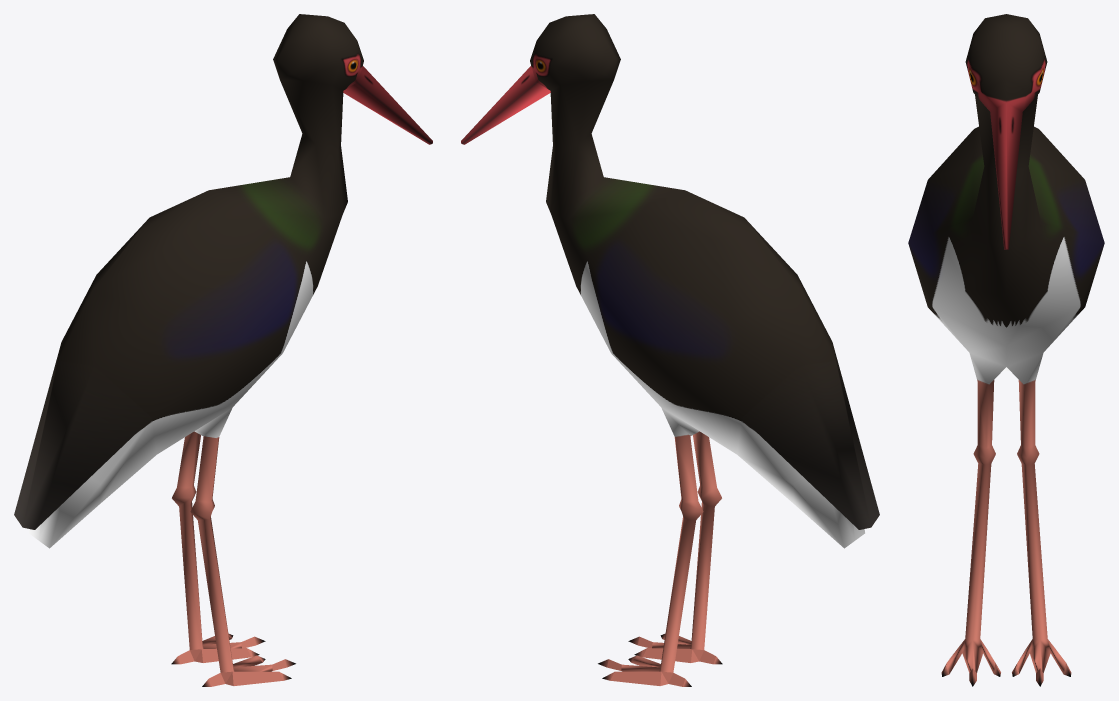
The model's file is black-stork-by-gwym-hendawyr-1V9QAdivMdX.glb.
3 views of the same model, side by side, from view 1: azimuth 30°, elevation 25°; view 2: azimuth 150°, elevation 25°; view 3: azimuth 270°, elevation 25° (orthographic). The views are drawn at different scales.
Visible parts, largest first — view 1: Stork; view 2: Stork; view 3: Stork.
Part boxes in pixels (x1,y1,x2,y2): Stork: (14,14,432,686); Stork: (461,14,879,686); Stork: (908,14,1104,686).
Size of the model in its own units: 0.9353 by 1.36 by 0.3543.
1 material, 1 textured.
